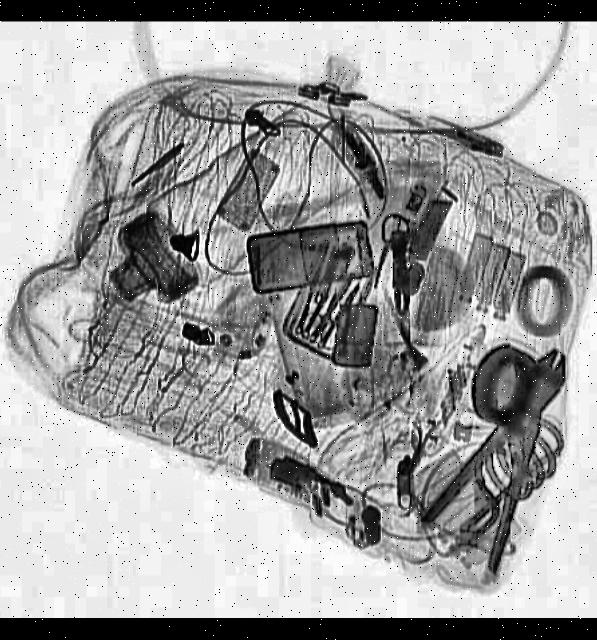Pliers: (410, 332, 597, 579)
